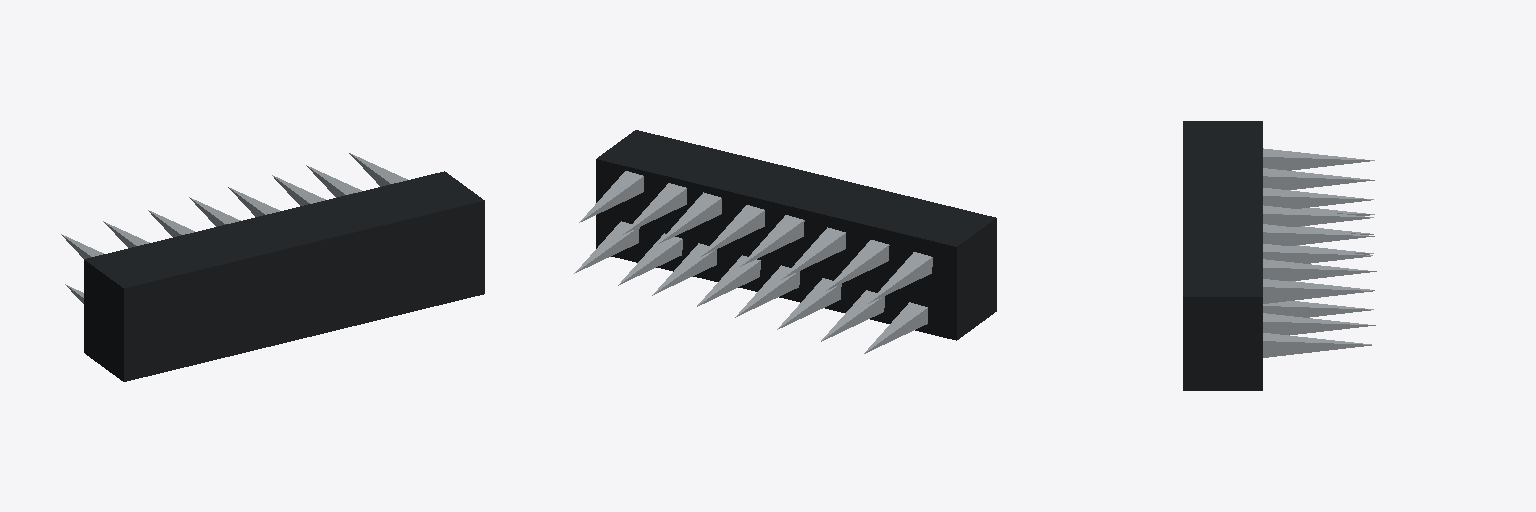
Rendered from tinker.obj.
The picture shows the model from 3 angles: view 1: azimuth 30°, elevation 25°; view 2: azimuth 150°, elevation 25°; view 3: azimuth 270°, elevation 25°; orthographic projection.
Parts seen in each view (by area): view 1: obj_0; view 2: obj_0; view 3: obj_0.
Part boxes in pixels (bbox=[...]): obj_0: bbox=[61, 153, 484, 381]; obj_0: bbox=[574, 130, 996, 353]; obj_0: bbox=[1183, 121, 1376, 390].
Bounding box in the file's own units: 125 × 31 × 58.